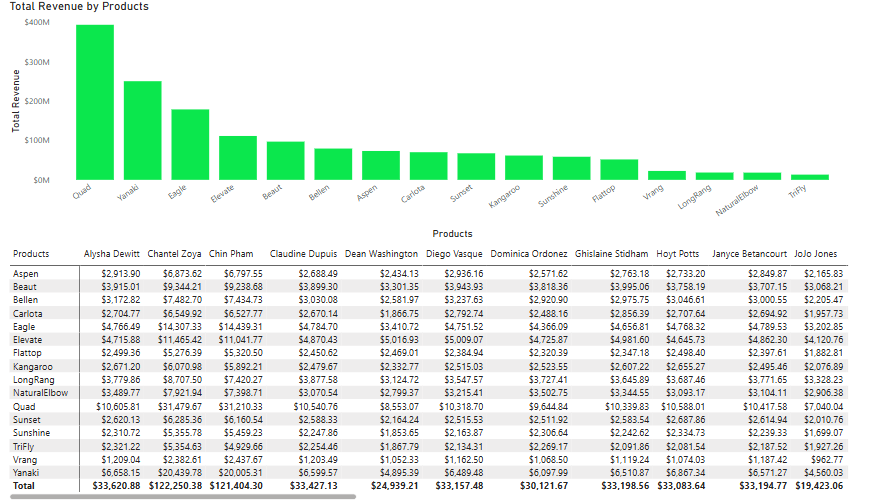

The dashboard page shown, as its layout file describes it:
{"tool":"powerbi","page":{"name":"Revenue by Product","canvas":[1280,720],"ordinal":3},"visuals":[{"type":"clusteredColumnChart","fields":{"Y":["fTransactions.Total Revenue"],"Category":["dProduct.Products"]},"box":[10,0,1208.3,348.3],"z":0},{"type":"pivotTable","fields":{"Rows":["dProduct.Products"],"Columns":["dSalesReps.SalesRep"],"Values":["fTransactions.Avg Daily Revenue"]},"box":[10,348.3,1208.3,371.7],"z":1000}]}

Visuals, with their boxes in screenshot pixels (x1, y1, x2, y2), scaled from the page's 1280x720 canvas onto the 885x500 screenshot:
clusteredColumnChart - fTransactions.Total Revenue x dProduct.Products: bbox(7, 0, 842, 242)
pivotTable - dProduct.Products x dSalesReps.SalesRep: bbox(7, 242, 842, 499)
